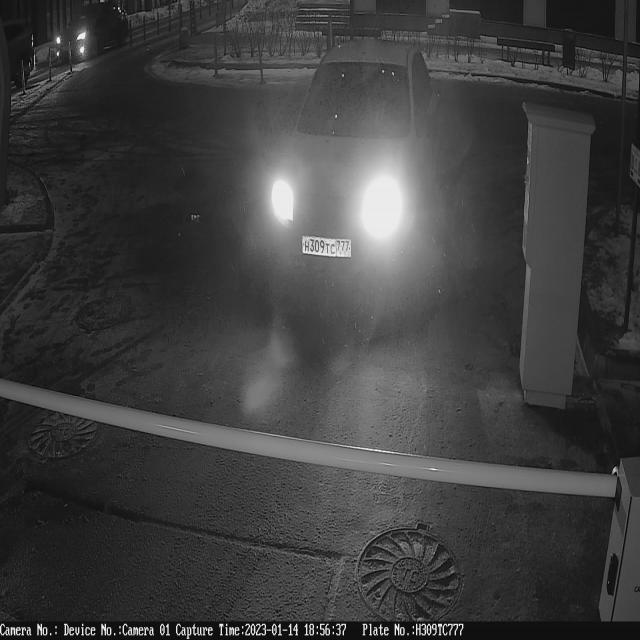car-plate-numbers: (300, 231, 355, 266)
